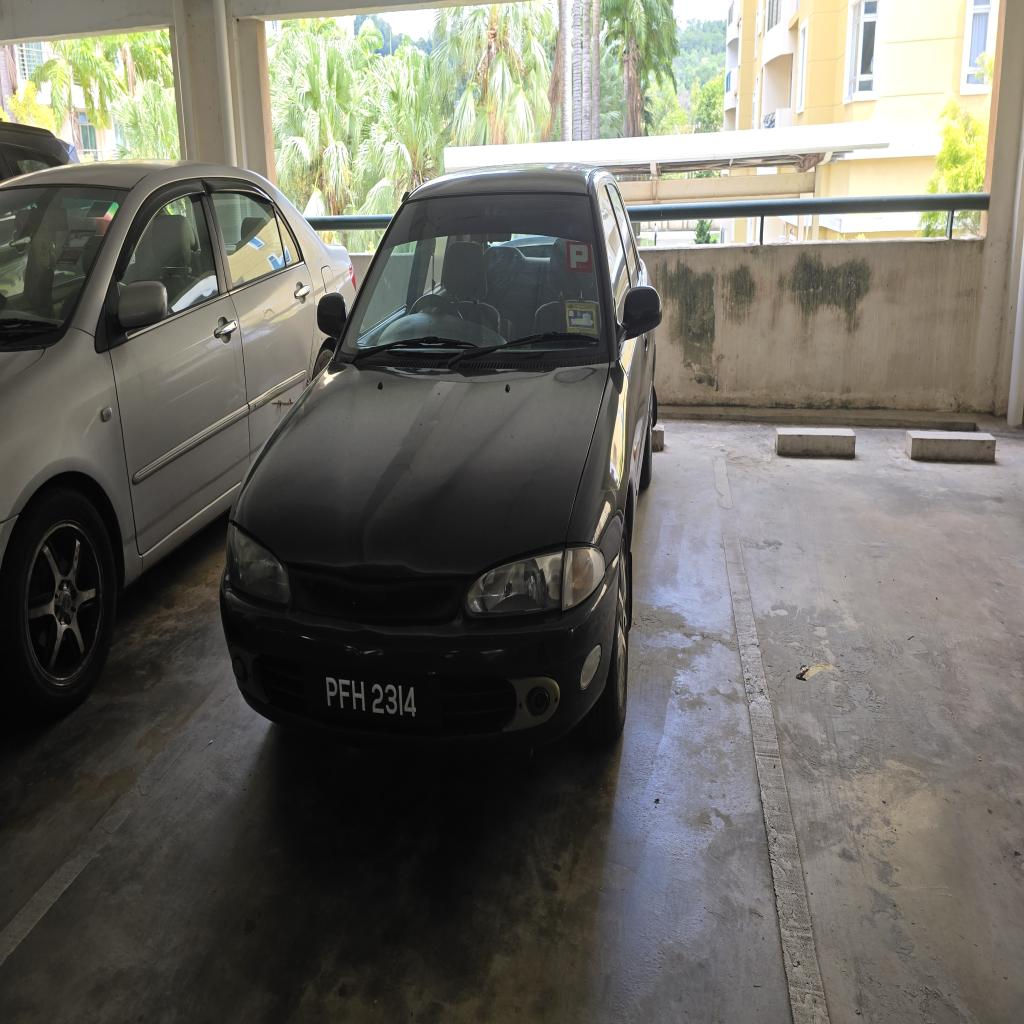car: (222, 167, 660, 746)
car plate: (307, 670, 436, 731)
